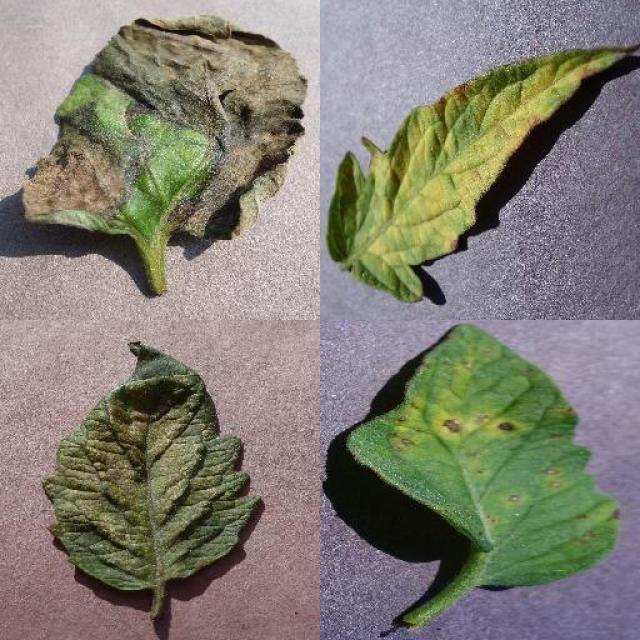Late Blight: (20, 18, 310, 242)
Septoria: (350, 322, 620, 588)
